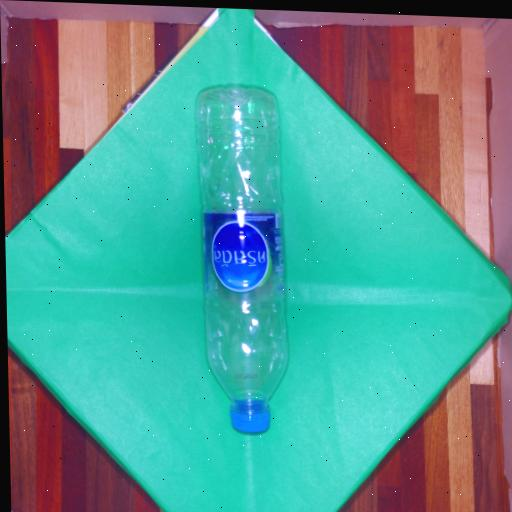bottle: (197, 89, 287, 432)
